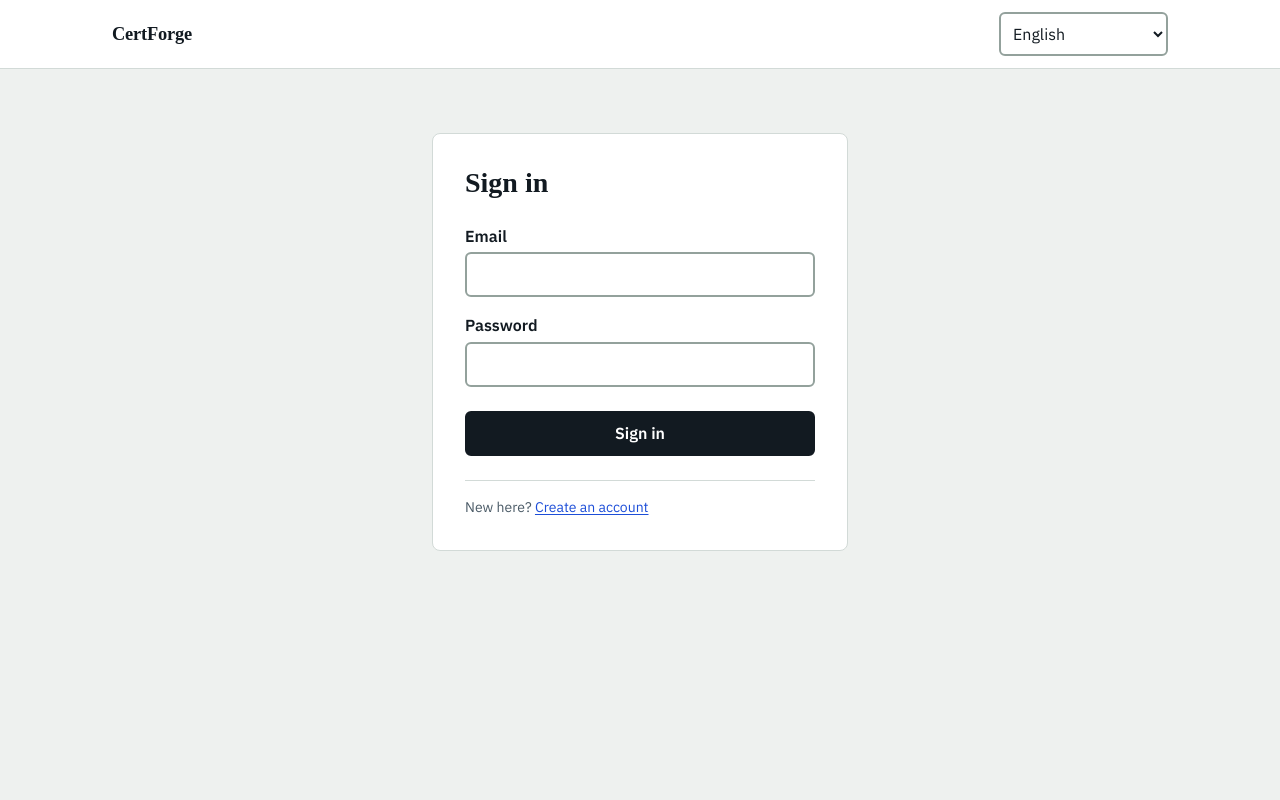
it: signing in › explains missing fields in a summary that takes focus and links to each field
Click the button "Sign in" at (640, 433), box x1=465 y1=411 x2=815 y2=456
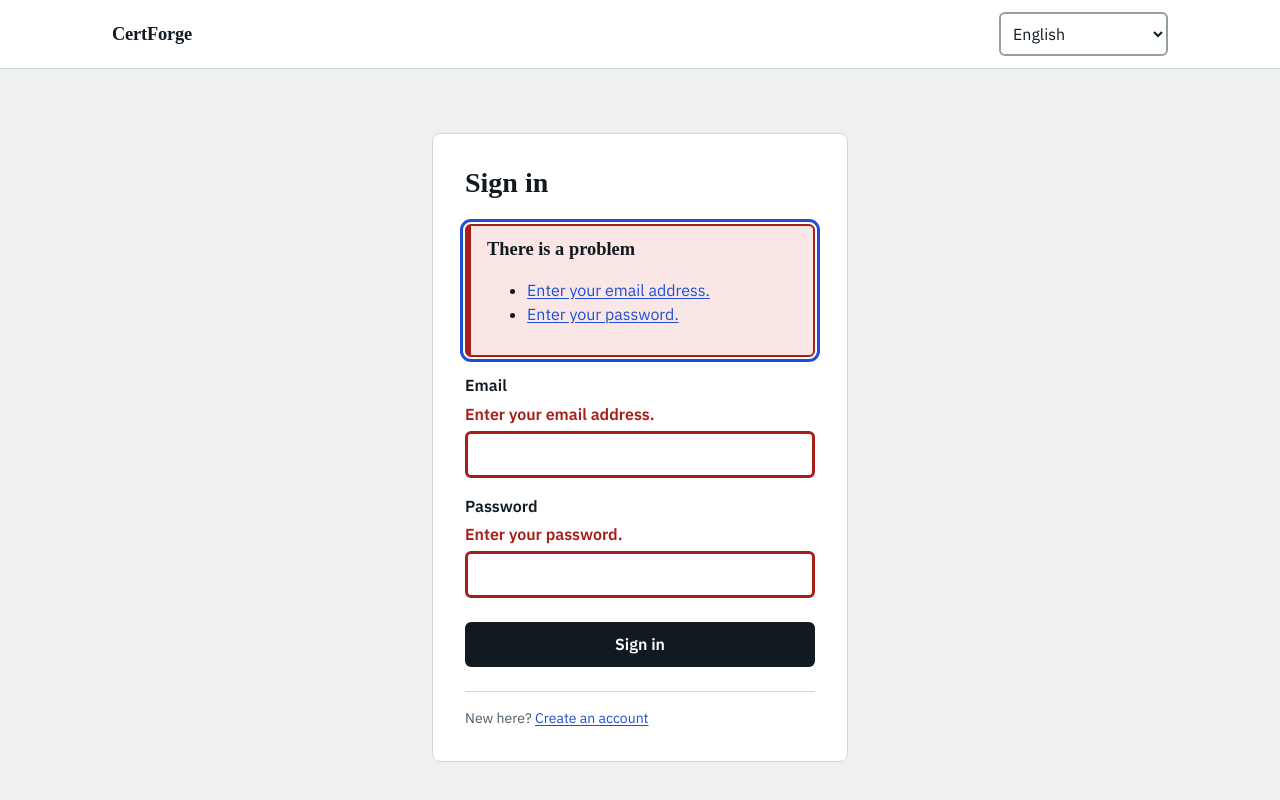
expect the message shows "Enter your email address.": met, box x1=527 y1=280 x2=710 y2=300
expect the message shows "Enter your password.": met, box x1=527 y1=304 x2=679 y2=324
